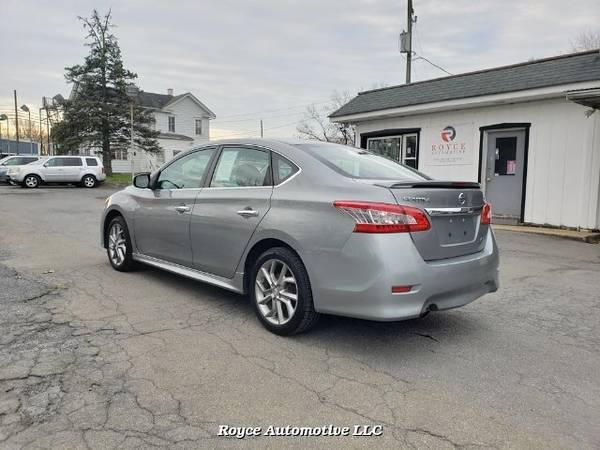Front_Fender: (98, 185, 140, 260)
Front_Left_Door: (131, 186, 202, 273)
Front_Left_Window: (148, 144, 223, 189)
Left_Taillight: (335, 200, 431, 233)
Rear_Bumper: (296, 225, 500, 320)
Rear_Fender: (258, 149, 397, 252)
Rear_Left_Door: (190, 184, 275, 290)
Rear_Left_Window: (205, 145, 274, 188)
Rear_Windshield: (297, 144, 439, 182)
Right_Taillight: (481, 201, 493, 226)
Roof: (145, 134, 343, 185)
Tailgate: (359, 181, 491, 261)
Wheel: (248, 246, 314, 333), (104, 217, 130, 270)
